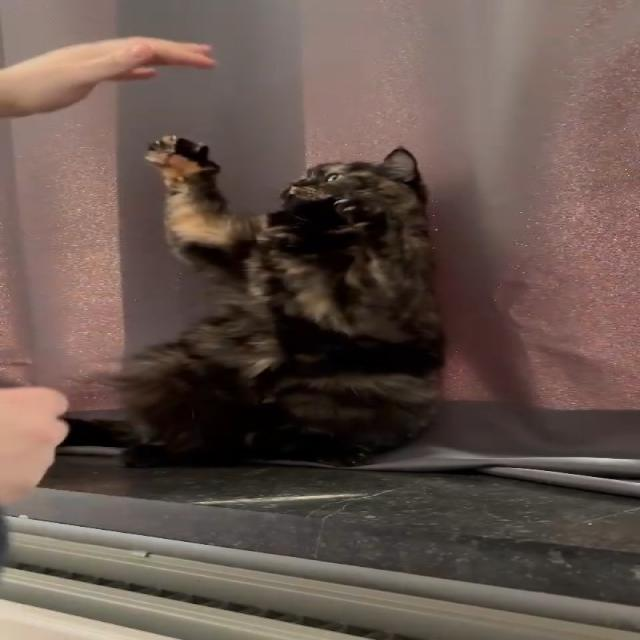authorized: (94, 134, 447, 468)
